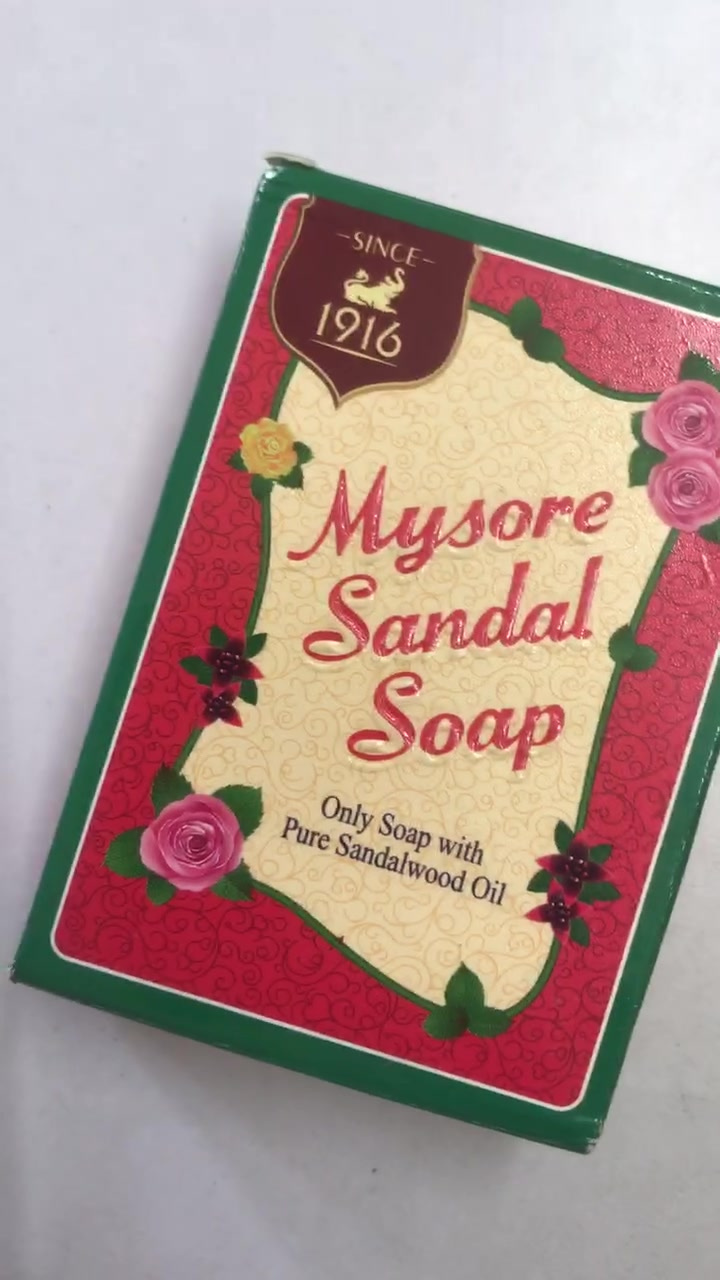mysore sandal soap: (13, 149, 720, 1147)
